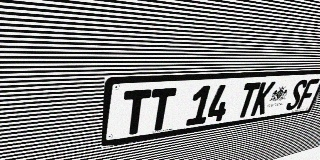1: (186, 85, 214, 126)
4: (205, 84, 233, 123)
F: (296, 78, 320, 109)
K: (250, 81, 276, 116)
S: (284, 79, 309, 111)
T: (121, 89, 152, 136), (146, 88, 177, 132), (234, 82, 261, 119)
